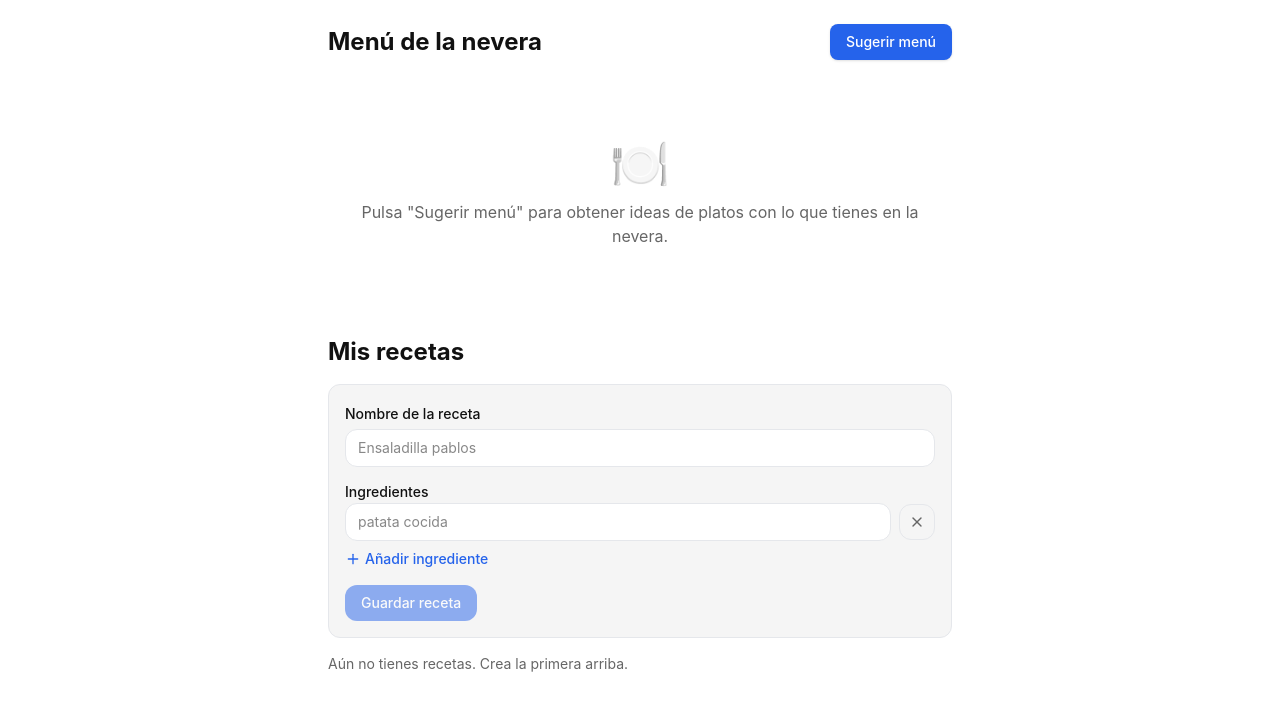
MenuPage › muestra los platos sugeridos cuando la IA responde
Click the button "Sugerir menú". click: (891, 42)
box: [830, 24, 952, 60]
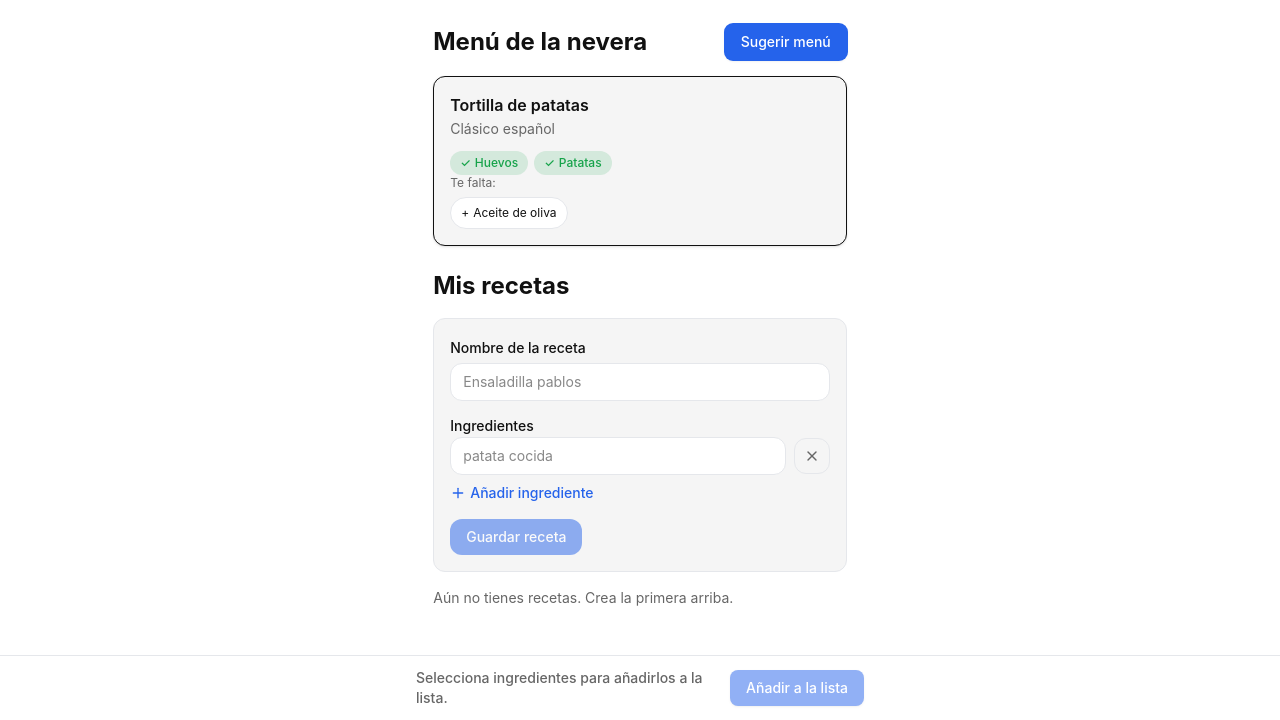
Expected: the heading "Tortilla de patatas" is shown, [450, 95, 589, 115]
Expected: the text "Clásico español" is shown, [450, 120, 555, 137]
Expected: the list item "Huevos" is shown, [475, 155, 518, 170]
